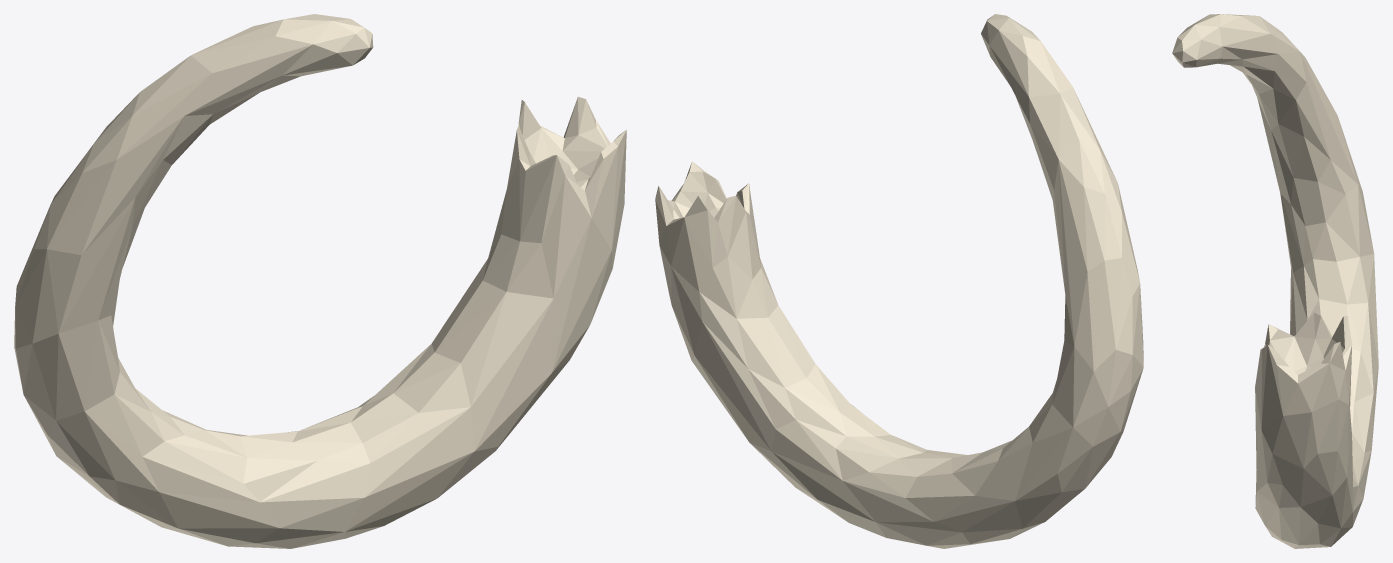
The model's file is SM_LP_Fossil_5.fbx.
3 renders of one model, left to right at view 1: azimuth 30°, elevation 25°; view 2: azimuth 150°, elevation 25°; view 3: azimuth 270°, elevation 25°, orthographic. The views are drawn at different scales.
Parts seen in each view (by area): view 1: SM_LP_Fossil_5; view 2: SM_LP_Fossil_5; view 3: SM_LP_Fossil_5.
Part boxes in pixels (x1,y1,x2,y2): SM_LP_Fossil_5: (14,14,626,548); SM_LP_Fossil_5: (655,14,1143,548); SM_LP_Fossil_5: (1172,14,1378,548).
Size of the model in its own units: 0.7621 by 0.7286 by 0.2844.
